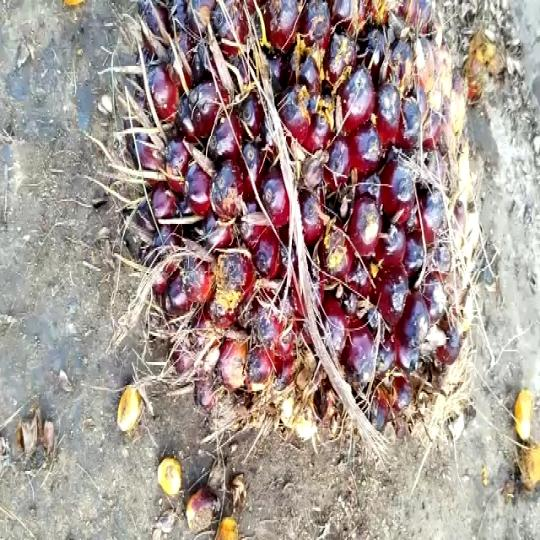kurang masak: (112, 0, 473, 460)
